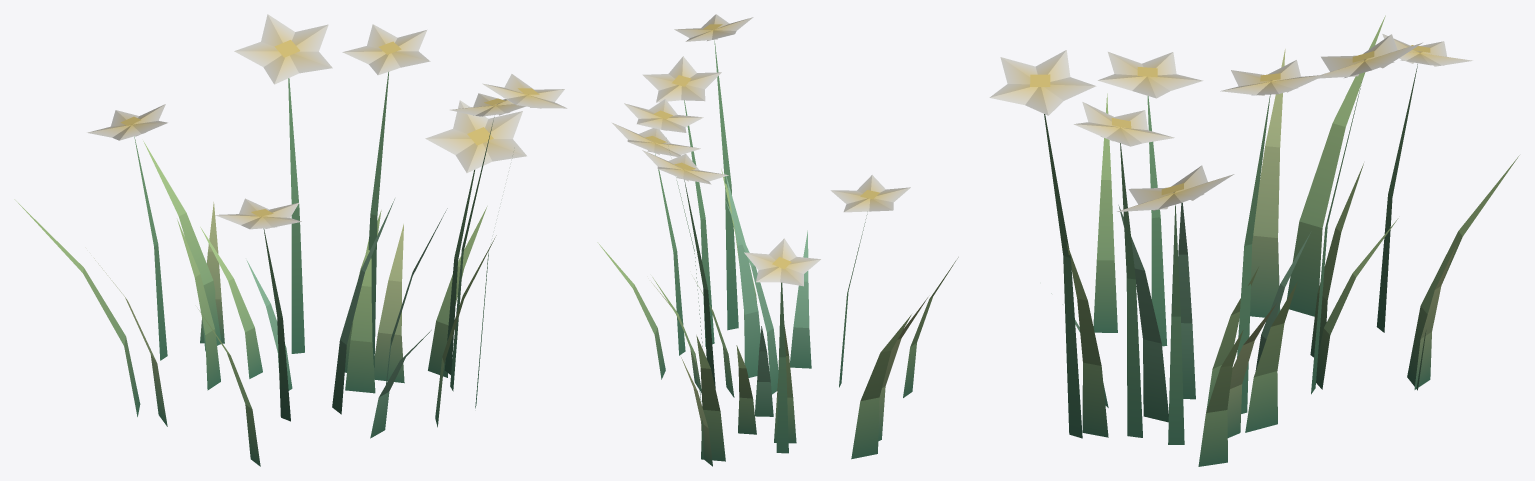
File: SM_GR_Flowers_White.fbx
3 renders of one model, left to right at view 1: azimuth 30°, elevation 25°; view 2: azimuth 150°, elevation 25°; view 3: azimuth 270°, elevation 25°, orthographic. The views are drawn at different scales.
Visible parts, largest first — view 1: SM_GR_Flowers_White; view 2: SM_GR_Flowers_White; view 3: SM_GR_Flowers_White.
Boxes of the visible parts, x1,y1,x2,y2 form: SM_GR_Flowers_White: (14, 14, 567, 466); SM_GR_Flowers_White: (597, 14, 958, 466); SM_GR_Flowers_White: (989, 15, 1519, 466).
Size of the model in its own units: 63.2 by 48.61 by 57.88.
